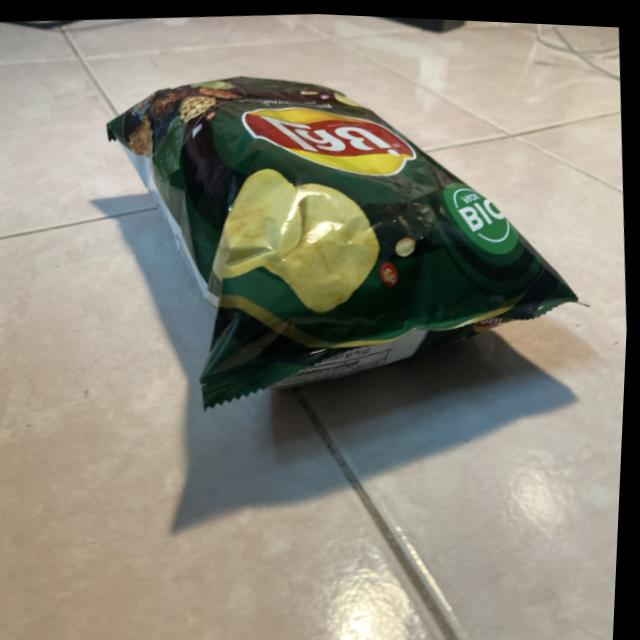Laygreen: (80, 3, 618, 462)
